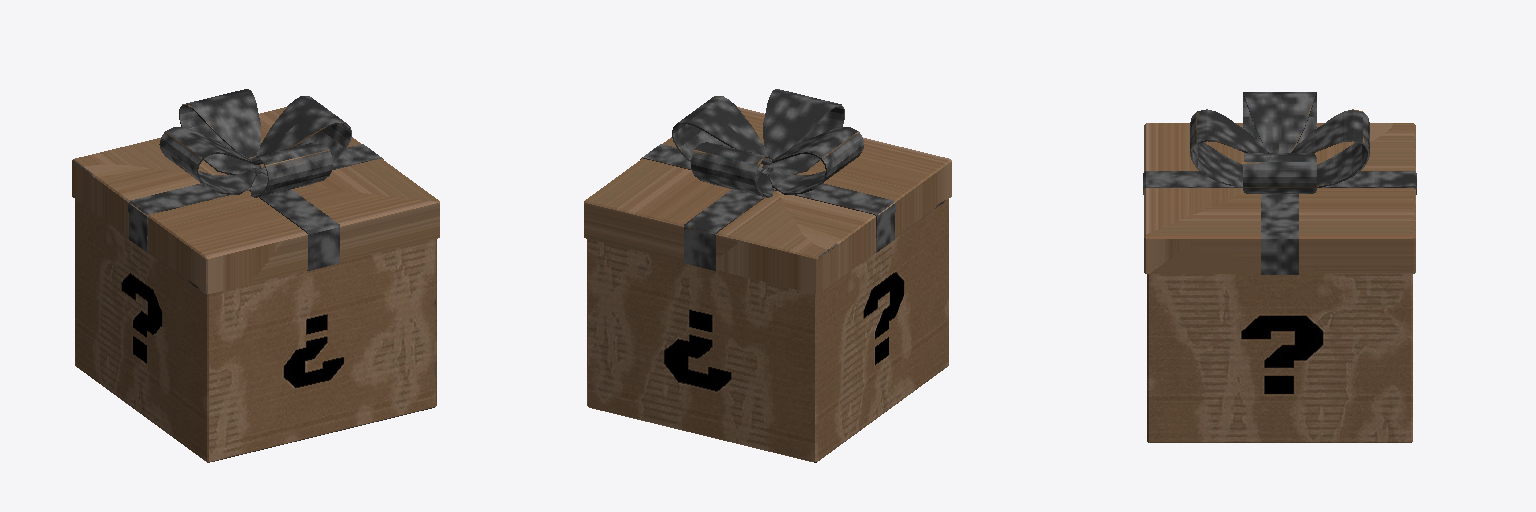
3 views of the same model, side by side, from view 1: azimuth 30°, elevation 25°; view 2: azimuth 150°, elevation 25°; view 3: azimuth 270°, elevation 25° (orthographic).
Parts seen in each view (by area): view 1: SK_GiftBox_ncl1_3; view 2: SK_GiftBox_ncl1_3; view 3: SK_GiftBox_ncl1_3.
Boxes of the visible parts, <box> form: SK_GiftBox_ncl1_3: <box>72,89,439,462</box>; SK_GiftBox_ncl1_3: <box>584,89,951,462</box>; SK_GiftBox_ncl1_3: <box>1143,92,1416,442</box>.
Size of the model in its own units: 3.68 by 3.91 by 3.68.
1 materials, 1 textured.